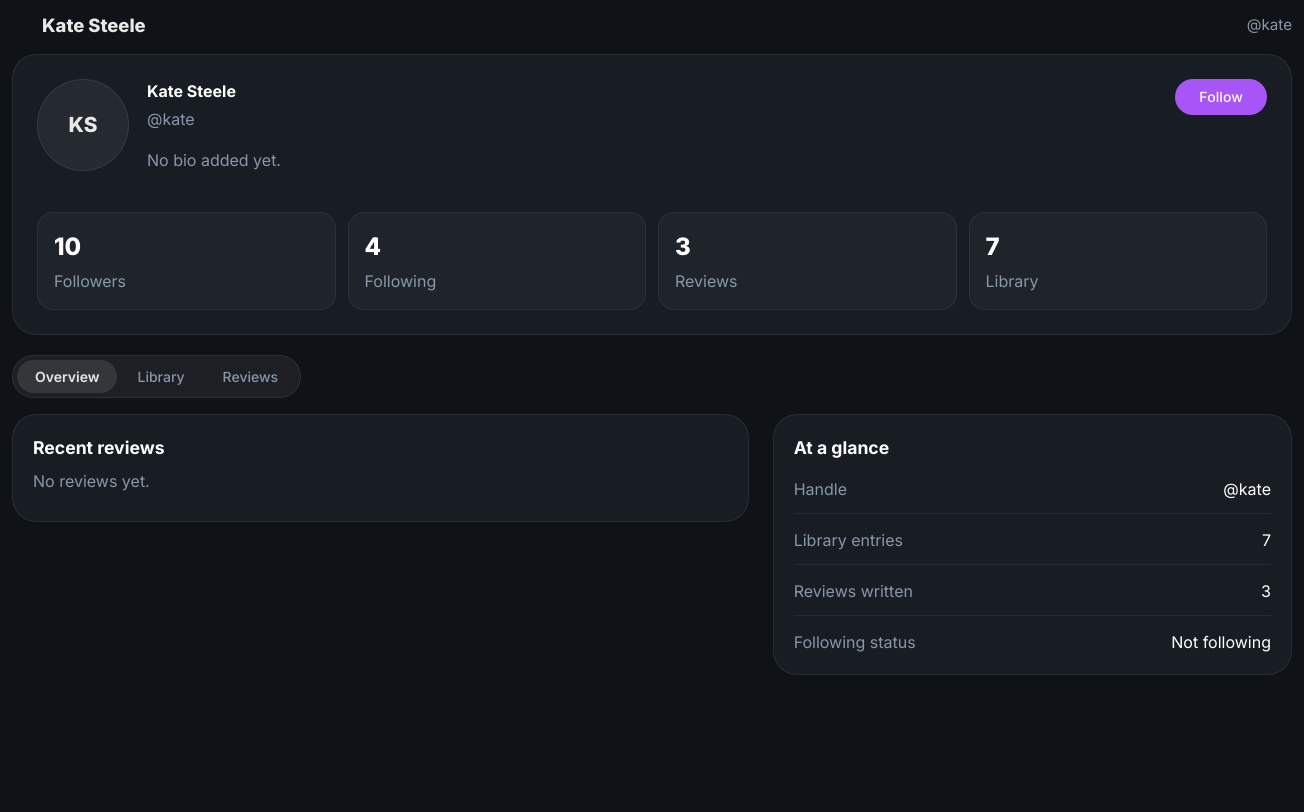
Test case: public profile page › follows another user and updates the visible button state
Click the button "Follow": (1221, 97) [1175,79,1267,115]
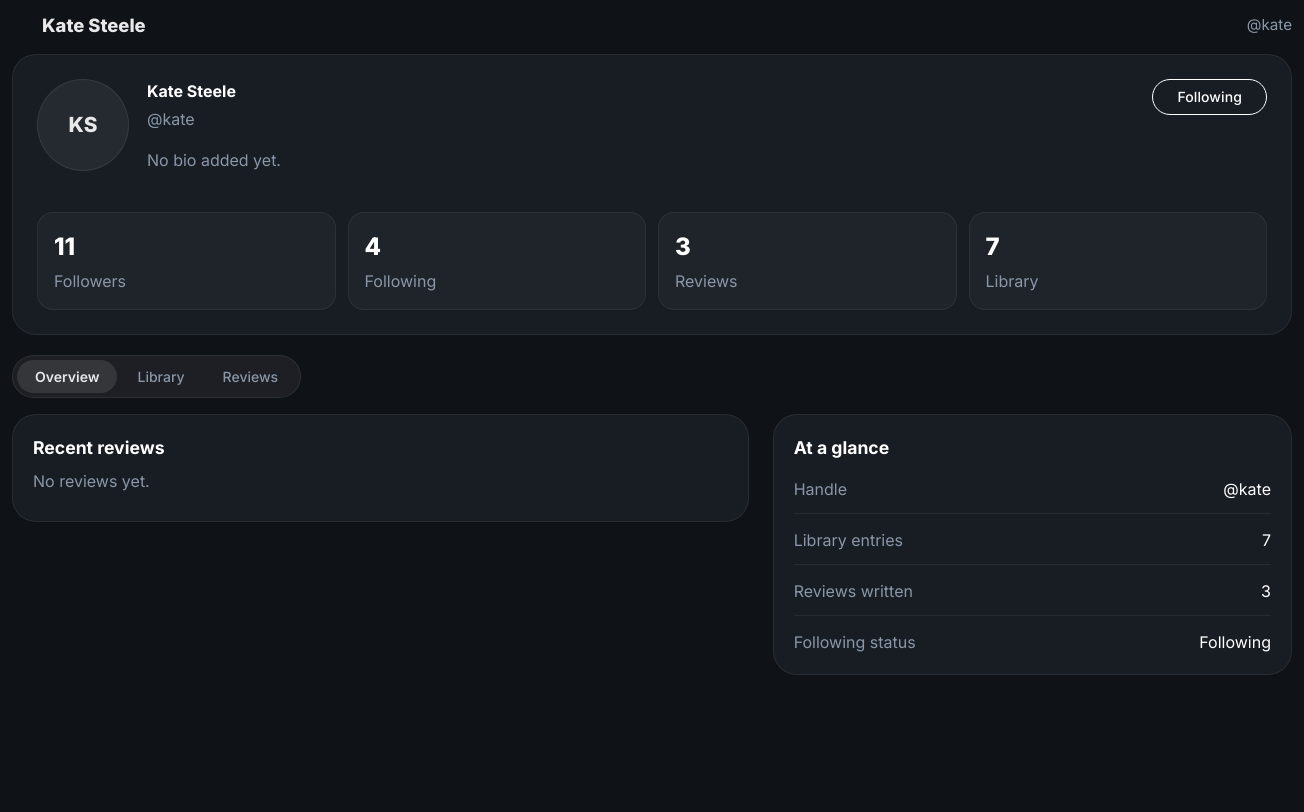
Expected: the button "Following" is shown, [1152,79,1267,115]
Expected: the text "11" is shown, [54,232,75,261]
